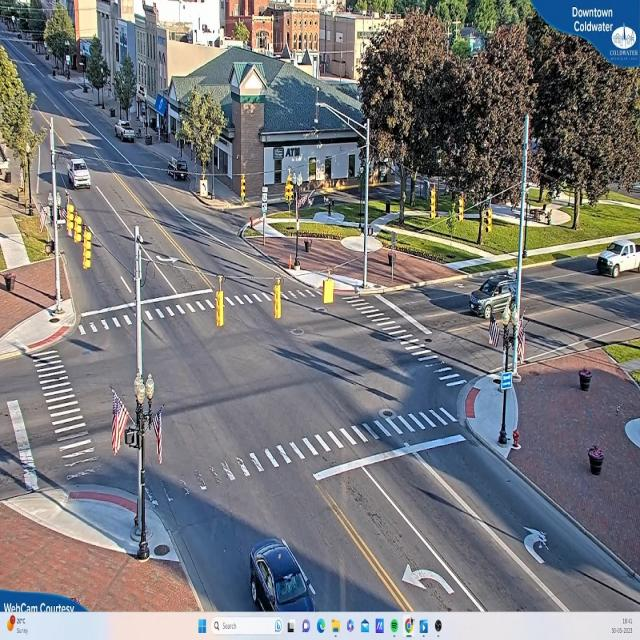car: (250, 538, 326, 614), (596, 236, 640, 275), (468, 282, 516, 317), (62, 160, 92, 190), (117, 123, 135, 143)
